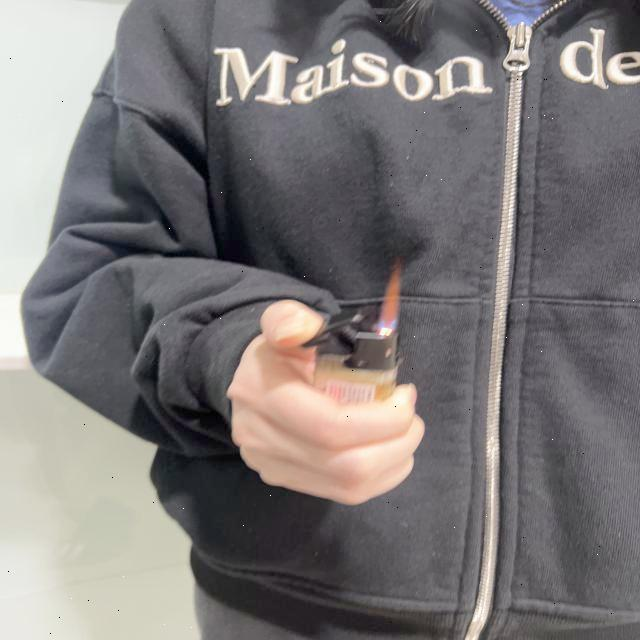fire: (379, 261, 400, 333)
